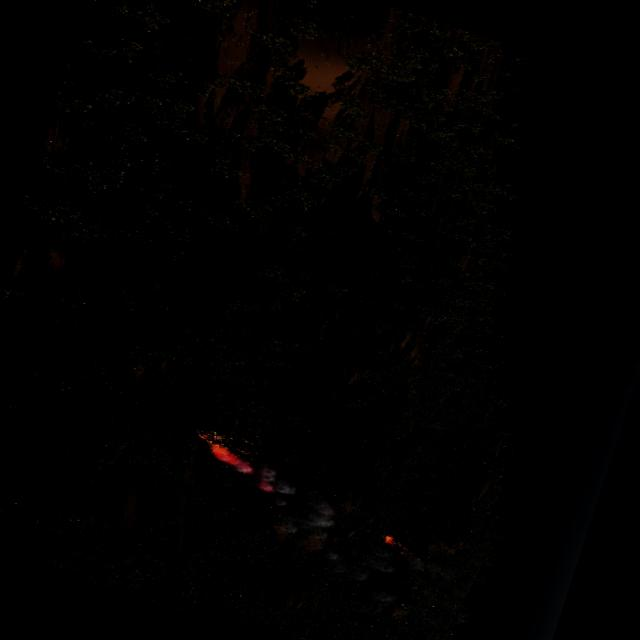fire: (192, 429, 252, 471), (381, 533, 396, 546)
smoke: (198, 440, 347, 545), (314, 545, 404, 607), (388, 542, 426, 574)
